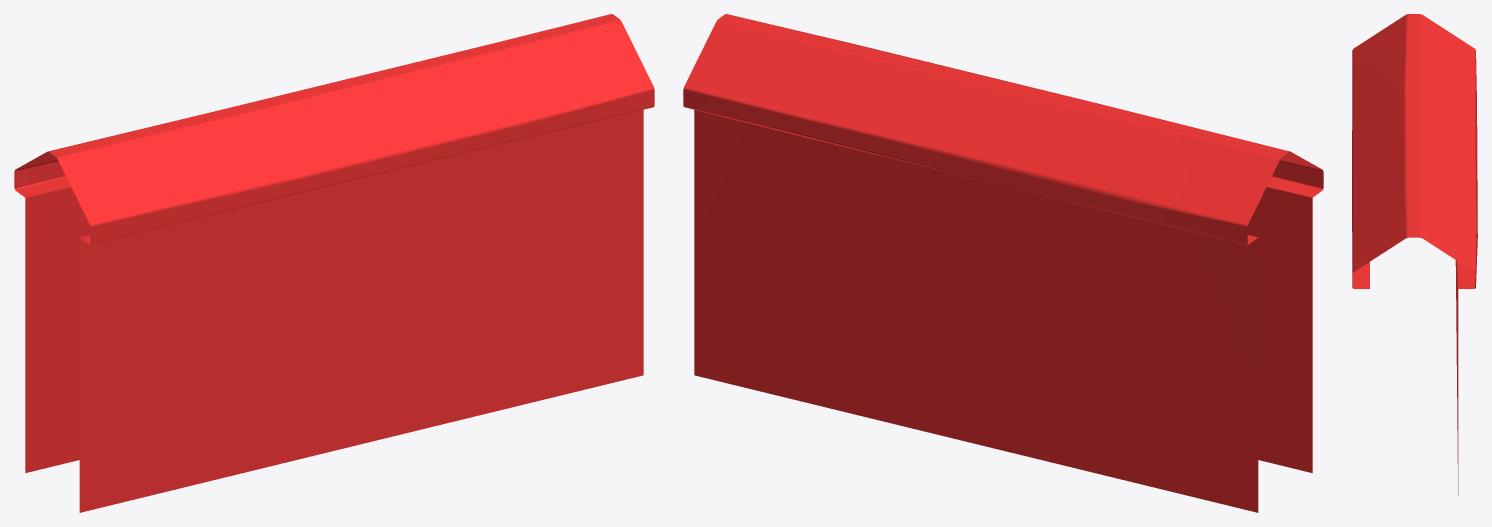
Rendered from Parapet.fbx.
3 views of the same model, side by side, from view 1: azimuth 30°, elevation 25°; view 2: azimuth 150°, elevation 25°; view 3: azimuth 270°, elevation 25° (orthographic). The views are drawn at different scales.
Parts seen in each view (by area): view 1: Parapet COL; view 2: Parapet COL; view 3: Parapet COL.
Part boxes in pixels (<box>): Parapet COL: <box>14,14,654,512</box>; Parapet COL: <box>683,14,1323,512</box>; Parapet COL: <box>1352,14,1477,495</box>.
Bounding box in the file's own units: 300 × 172 × 71.23.
